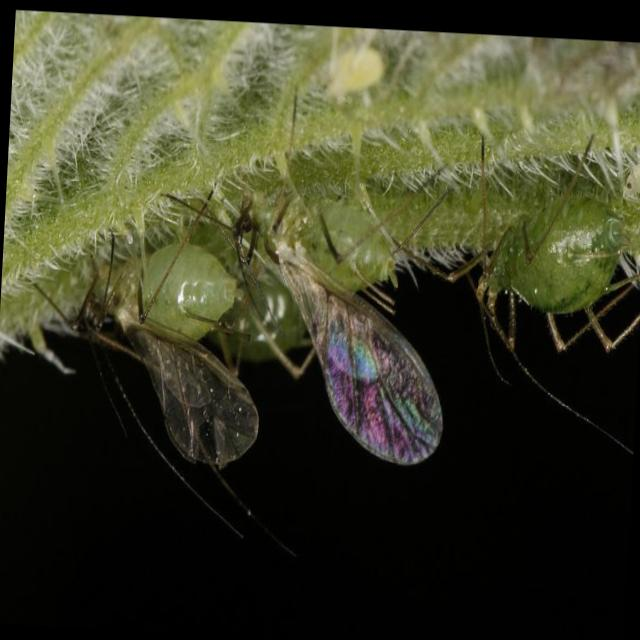Aphid: (414, 133, 638, 373), (84, 217, 252, 426)
